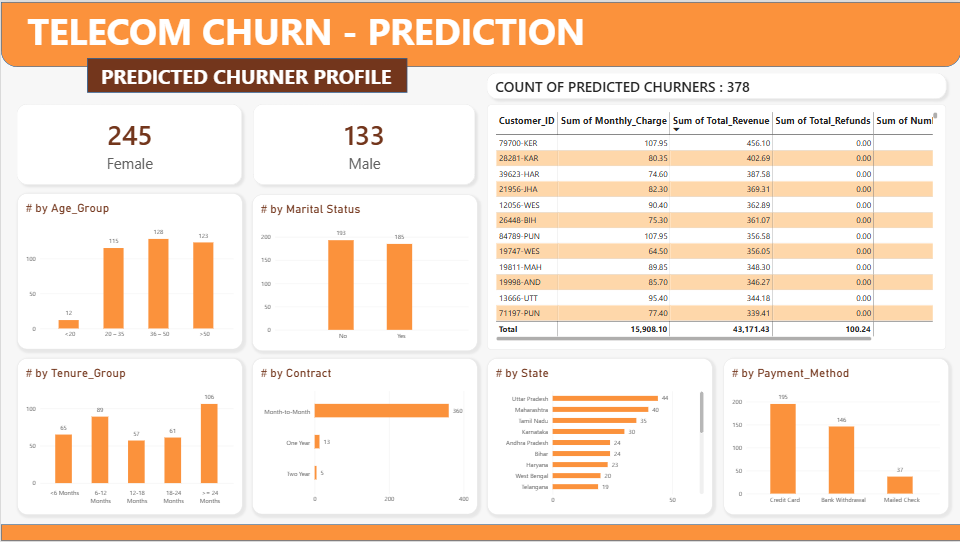

What the dashboard file says about the page in this screenshot:
{"tool":"powerbi","page":{"name":"Churn Prediction","canvas":[1920,1080],"ordinal":2},"visuals":[{"type":"tableEx","fields":{"Values":["Predictions.Customer_ID","Sum(Predictions.Monthly_Charge)","Sum(Predictions.Total_Revenue)","Sum(Predictions.Total_Refunds)","Sum(Predictions.Number_of_Referrals)"]},"box":[972.2,205.6,917.8,490],"z":0},{"type":"actionButton","box":[0,0,100,40],"z":1000},{"type":"cardVisual","fields":{"Data":["Measures (2).Title Predicted Churner"]},"box":[1350,20,544,92],"z":2000},{"type":"cardVisual","fields":{"Data":["Measures (2).Count Predicted Churners"]},"box":[492.2,193.3,467.8,184.4],"z":3000},{"type":"cardVisual","fields":{"Data":["Measures (2).Count Predicted Churners"]},"box":[18.9,192.2,473.3,184.4],"z":4000},{"type":"clusteredColumnChart","fields":{"Category":["age_mapping.Age_Group"],"Y":["CountNonNull(Predictions.Customer_ID)"]},"box":[32.2,383.3,450,312.2],"z":5000},{"type":"clusteredColumnChart","fields":{"Category":["Predictions.Married"],"Y":["CountNonNull(Predictions.Customer_ID)"]},"box":[502.5,383.8,450,312.5],"z":6000},{"type":"clusteredColumnChart","fields":{"Category":["tenure_mapping.Tenure_Group"],"Y":["CountNonNull(Predictions.Customer_ID)"]},"box":[32.5,712.5,450,312.5],"z":7000},{"type":"clusteredBarChart","fields":{"Category":["Predictions.Contract"],"Y":["CountNonNull(Predictions.Customer_ID)"]},"box":[502.5,712.5,450,312],"z":8000},{"type":"clusteredBarChart","fields":{"Category":["Predictions.State"],"Y":["CountNonNull(Predictions.Customer_ID)"]},"box":[972.5,711.7,450,312.5],"z":9000},{"type":"shape","box":[0,0,1920,130],"z":10000},{"type":"textbox","title":"TELECOM CHURN - PREDICTION","box":[52.9,8.6,1237.1,107.1],"z":11000},{"type":"shape","box":[0,1045,1920,35],"z":12000},{"type":"clusteredColumnChart","fields":{"Category":["Predictions.Payment_Method"],"Y":["CountNonNull(Predictions.Customer_ID)"]},"box":[1443.8,712.5,450,312.5],"z":13000},{"type":"shape","box":[172.5,112.5,640,68.6],"z":14000},{"type":"cardVisual","fields":{"Data":["Measures (2).Title Predicted Churner"]},"box":[960,130,942.5,75.6],"z":15000},{"type":"textbox","title":"PREDICTED CHURNER PROFILE","box":[200,120,585,60],"z":16000}]}

Visuals, with their boxes in screenshot pixels (x1, y1, x2, y2), scaled from the page's 1920x1080 canvas onto the 960x542 screenshot:
tableEx - Predictions.Customer_ID x Sum(Predictions.Monthly_Charge): pyautogui.locateOnScreen(486, 103, 945, 349)
actionButton: pyautogui.locateOnScreen(0, 0, 50, 20)
cardVisual - Measures (2).Title Predicted Churner: pyautogui.locateOnScreen(675, 10, 947, 56)
cardVisual - Measures (2).Count Predicted Churners: pyautogui.locateOnScreen(246, 97, 480, 190)
cardVisual - Measures (2).Count Predicted Churners: pyautogui.locateOnScreen(9, 96, 246, 189)
clusteredColumnChart - age_mapping.Age_Group x CountNonNull(Predictions.Customer_ID): pyautogui.locateOnScreen(16, 192, 241, 349)
clusteredColumnChart - Predictions.Married x CountNonNull(Predictions.Customer_ID): pyautogui.locateOnScreen(251, 193, 476, 349)
clusteredColumnChart - tenure_mapping.Tenure_Group x CountNonNull(Predictions.Customer_ID): pyautogui.locateOnScreen(16, 358, 241, 514)
clusteredBarChart - Predictions.Contract x CountNonNull(Predictions.Customer_ID): pyautogui.locateOnScreen(251, 358, 476, 514)
clusteredBarChart - Predictions.State x CountNonNull(Predictions.Customer_ID): pyautogui.locateOnScreen(486, 357, 711, 514)
shape: pyautogui.locateOnScreen(0, 0, 959, 65)
"TELECOM CHURN - PREDICTION" textbox: pyautogui.locateOnScreen(26, 4, 645, 58)
shape: pyautogui.locateOnScreen(0, 524, 959, 541)
clusteredColumnChart - Predictions.Payment_Method x CountNonNull(Predictions.Customer_ID): pyautogui.locateOnScreen(722, 358, 947, 514)
shape: pyautogui.locateOnScreen(86, 56, 406, 91)
cardVisual - Measures (2).Title Predicted Churner: pyautogui.locateOnScreen(480, 65, 951, 103)
"PREDICTED CHURNER PROFILE" textbox: pyautogui.locateOnScreen(100, 60, 392, 90)
